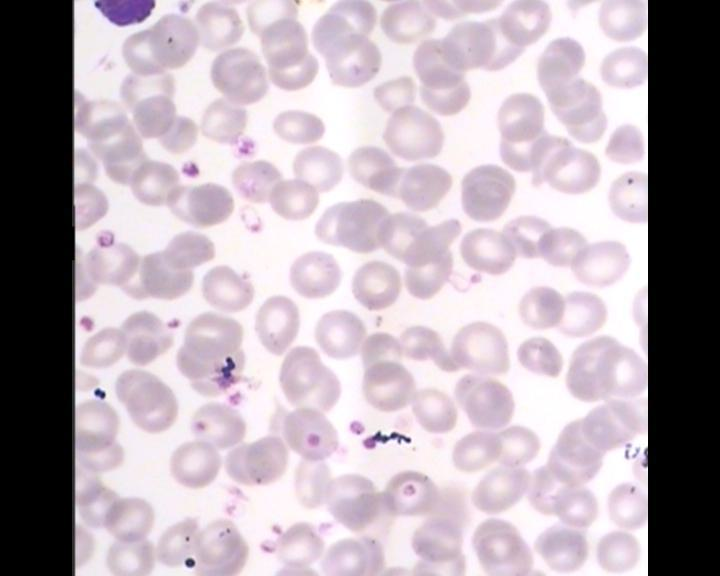baso: (92, 0, 157, 27)
